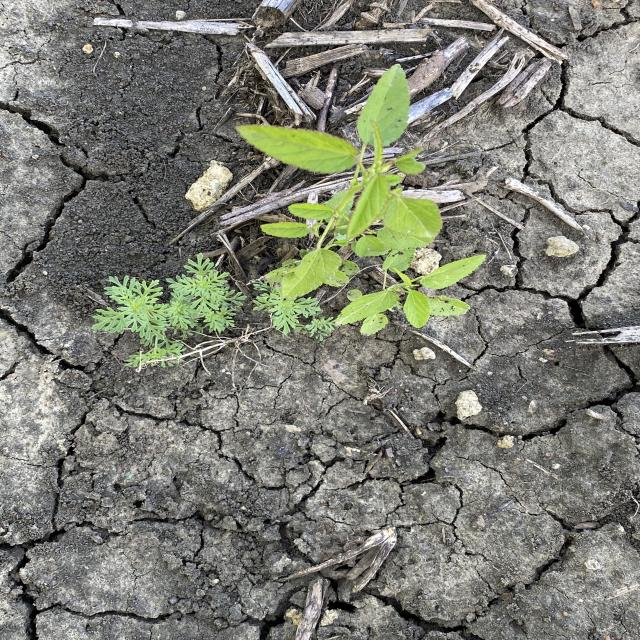PricklySida: (231, 58, 493, 341)
Ragweed: (83, 253, 249, 373), (250, 274, 338, 344)
